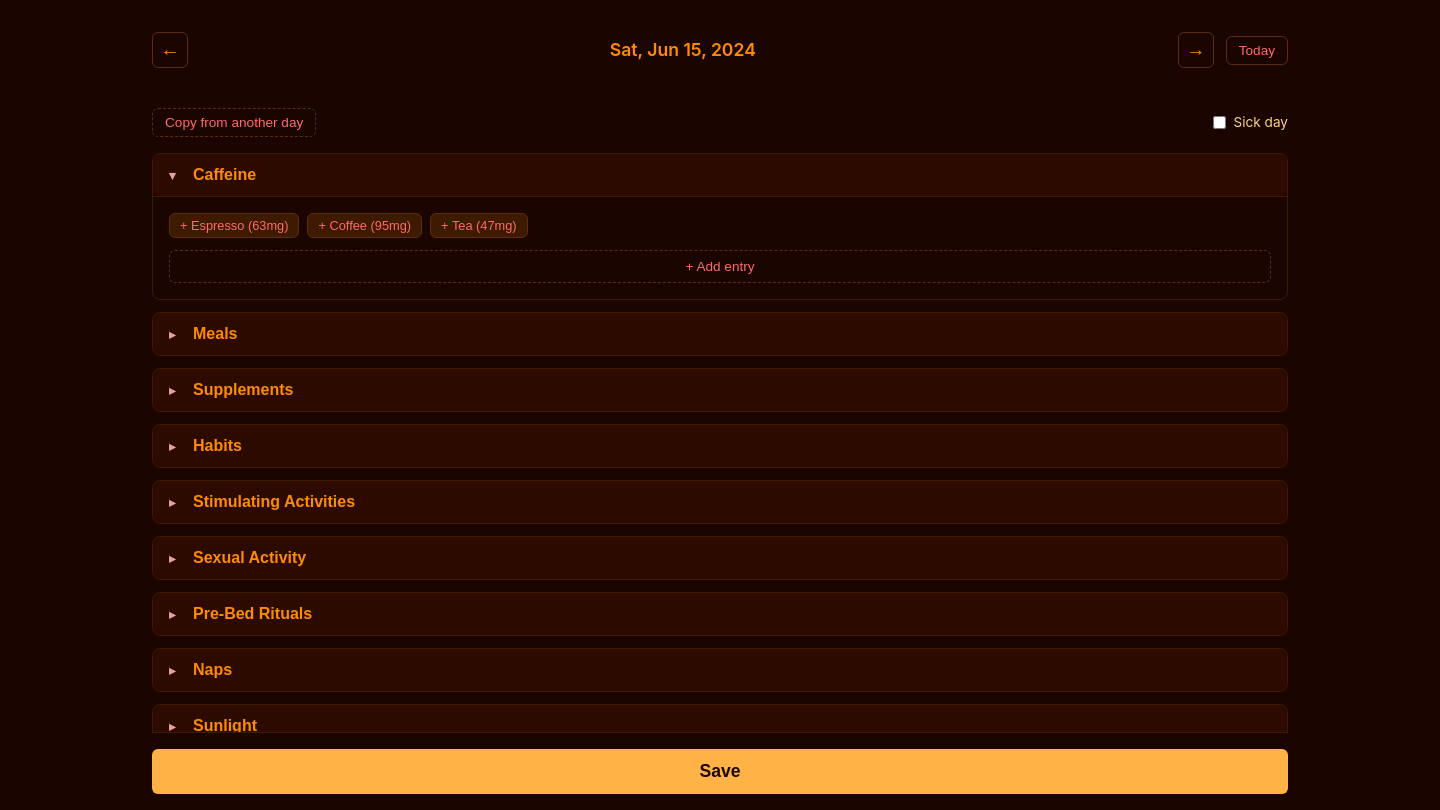
Test: DailyLogPage › surfaces a failed save with the backend detail
Click the button "Save".
click(720, 772)  # box [152,749,1288,794]
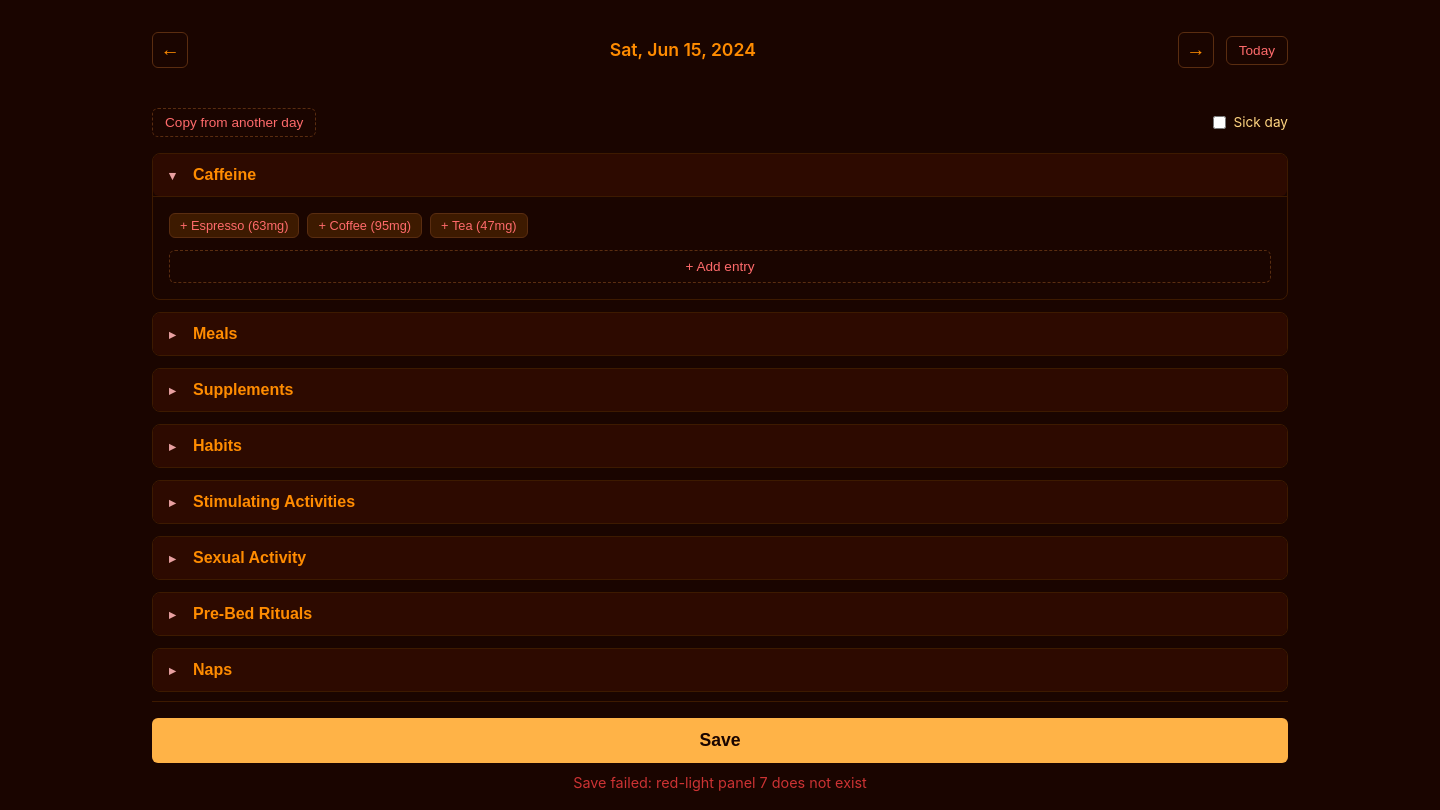
expect the text "Caffeine" is shown: met, box [193,166,256,183]
expect the message reads "Save failed: red-light panel 7 does not exist": met, box [573,774,867,791]
